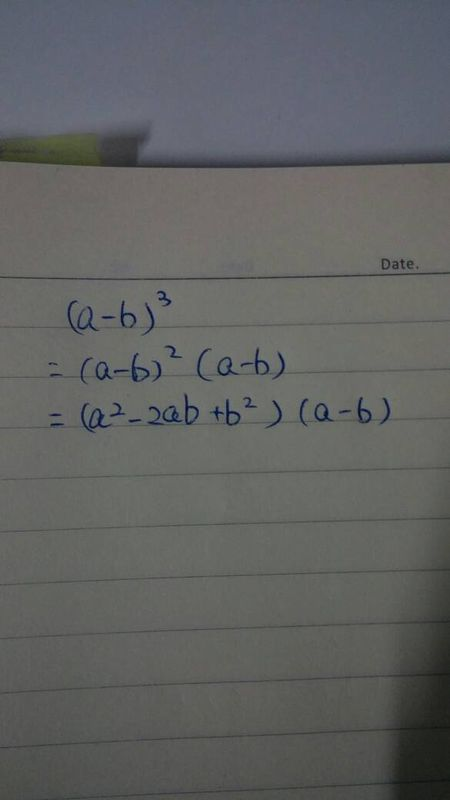cube: (154, 287, 173, 313)
square: (158, 344, 186, 367)
